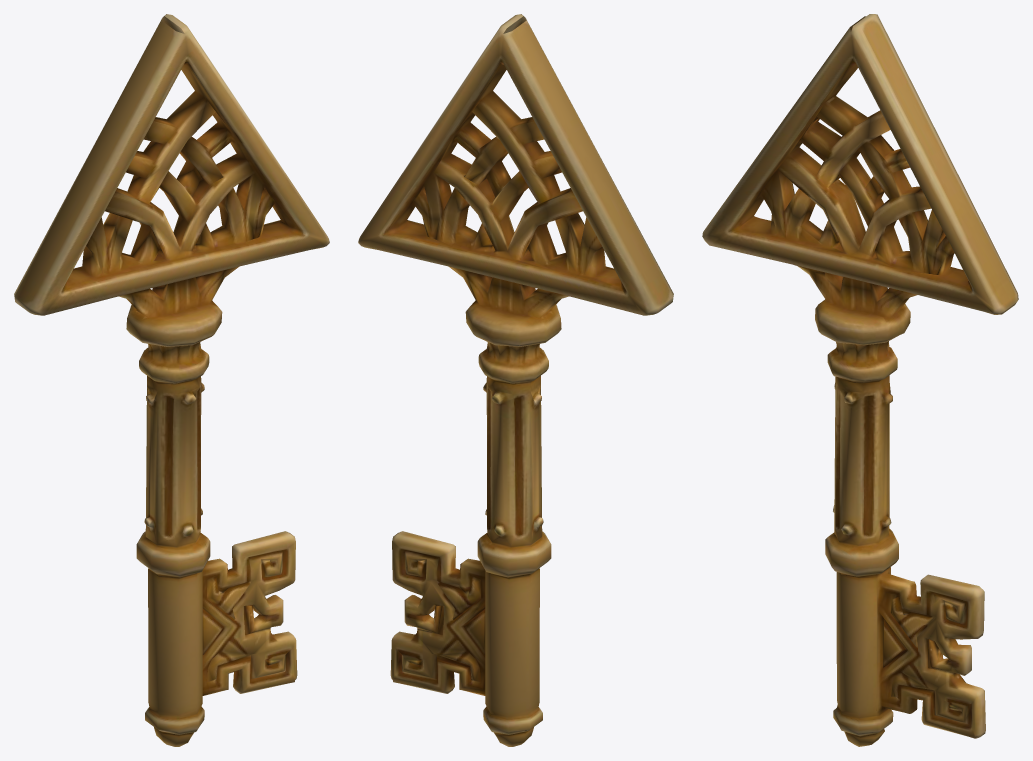
Rendered from Keys_2.fbx.
3 renders of one model, left to right at view 1: azimuth 30°, elevation 25°; view 2: azimuth 150°, elevation 25°; view 3: azimuth 330°, elevation 25°, orthographic.
Parts seen in each view (by area): view 1: Key.003; view 2: Key.003; view 3: Key.003.
Boxes of the visible parts, <box> form: Key.003: <box>14,14,329,746</box>; Key.003: <box>358,14,673,746</box>; Key.003: <box>702,14,1018,746</box>.
Bounding box in the file's own units: 34.08 × 78.41 × 9.01.
Materials: 1 (1 with a texture image).
